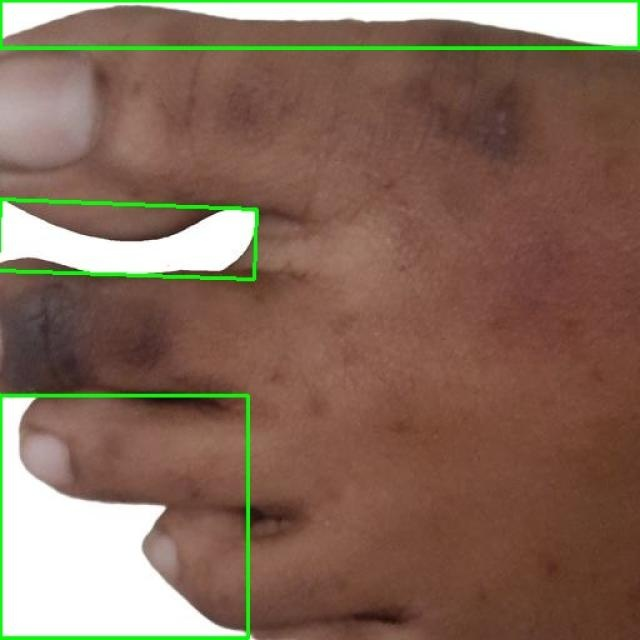Tinea Corporis: (0, 396, 249, 639), (0, 0, 639, 48), (0, 200, 257, 279)
